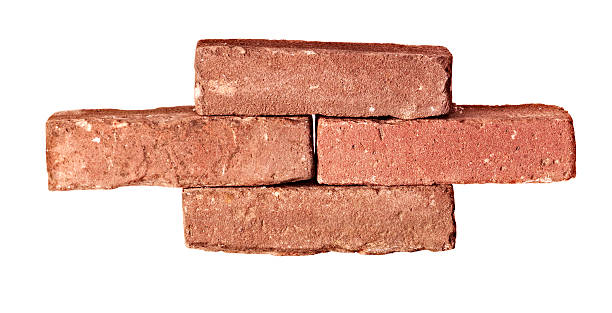brick: (46, 117, 312, 190), (182, 187, 454, 255), (319, 117, 577, 187), (196, 46, 450, 117)
